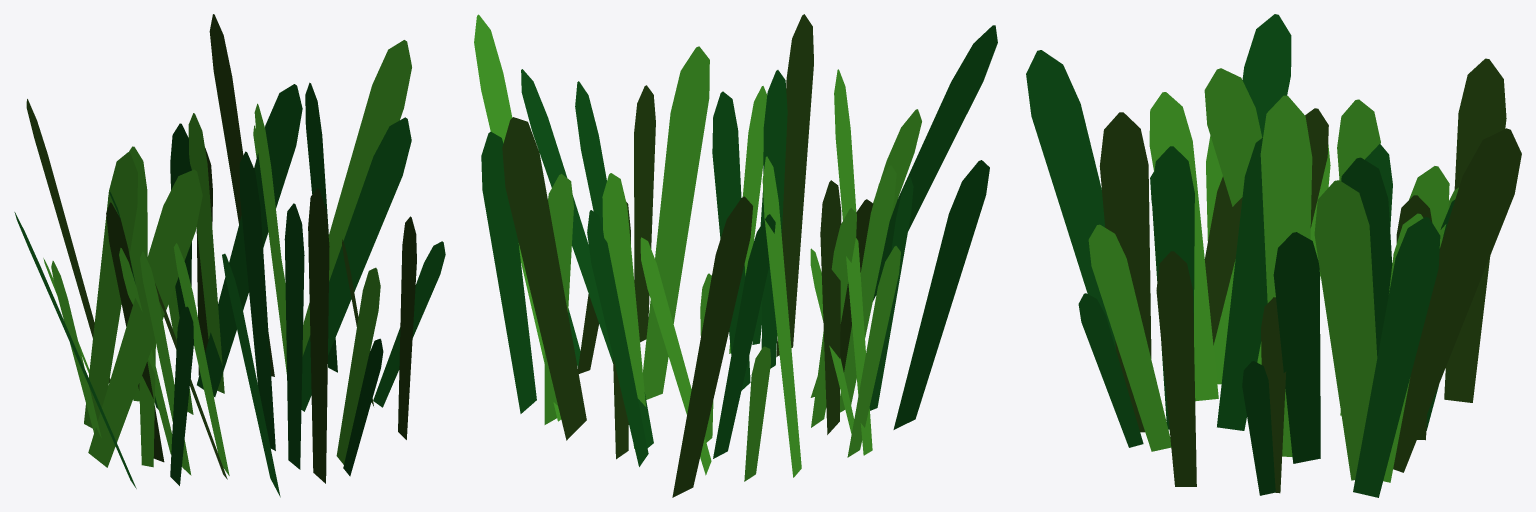
Rendered from grass.gltf.
3 views of the same model, side by side, from view 1: azimuth 30°, elevation 25°; view 2: azimuth 150°, elevation 25°; view 3: azimuth 270°, elevation 25° (orthographic). The views are drawn at different scales.
Visible parts, largest first — view 1: Plane; view 2: Plane; view 3: Plane.
Part boxes in pixels (x1,y1,x2,y2): Plane: [14, 14, 445, 497]; Plane: [474, 14, 997, 497]; Plane: [1026, 14, 1521, 497].
Size of the model in its own units: 0.4511 by 0.3385 by 0.4347.
